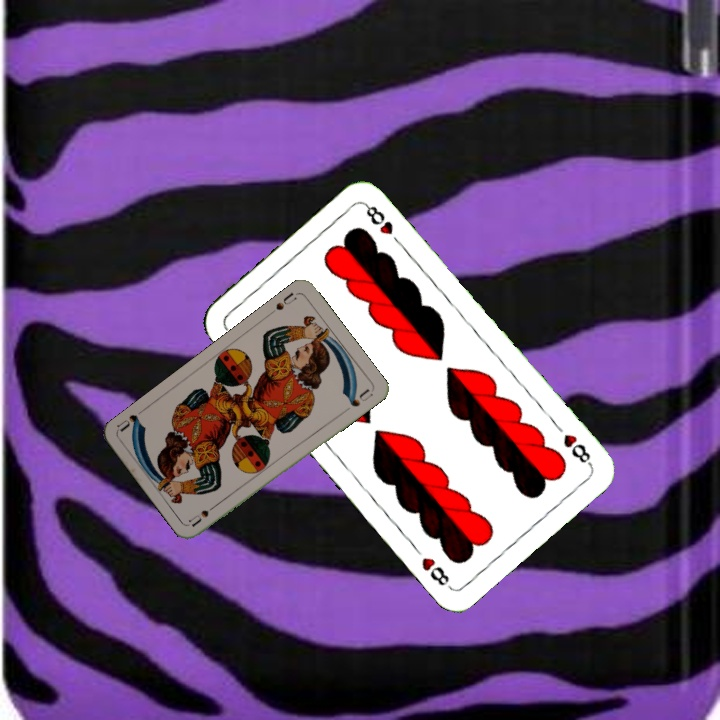H8: (559, 430, 595, 468)
SU: (186, 498, 222, 529), (272, 288, 300, 313)
